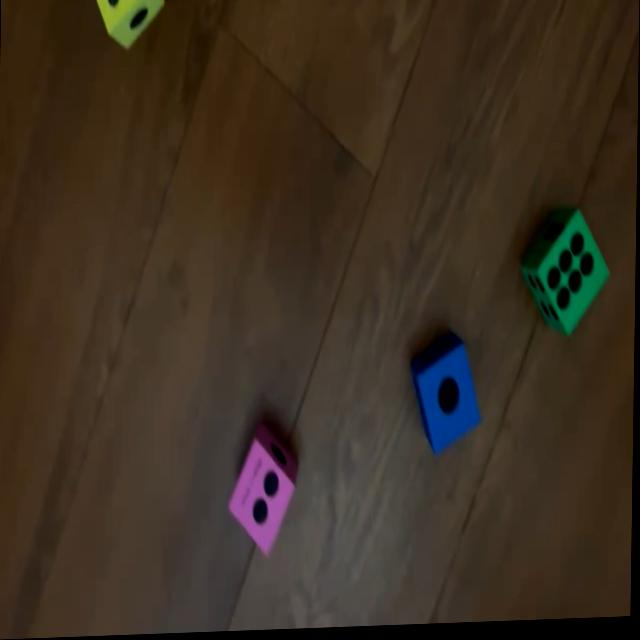cube: (523, 212, 612, 339), (409, 338, 482, 460)
